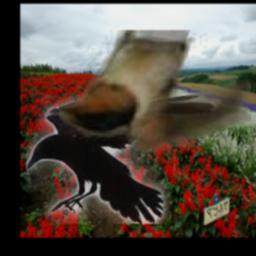Crow: (26, 92, 215, 224)
Swallow: (59, 31, 251, 153)
